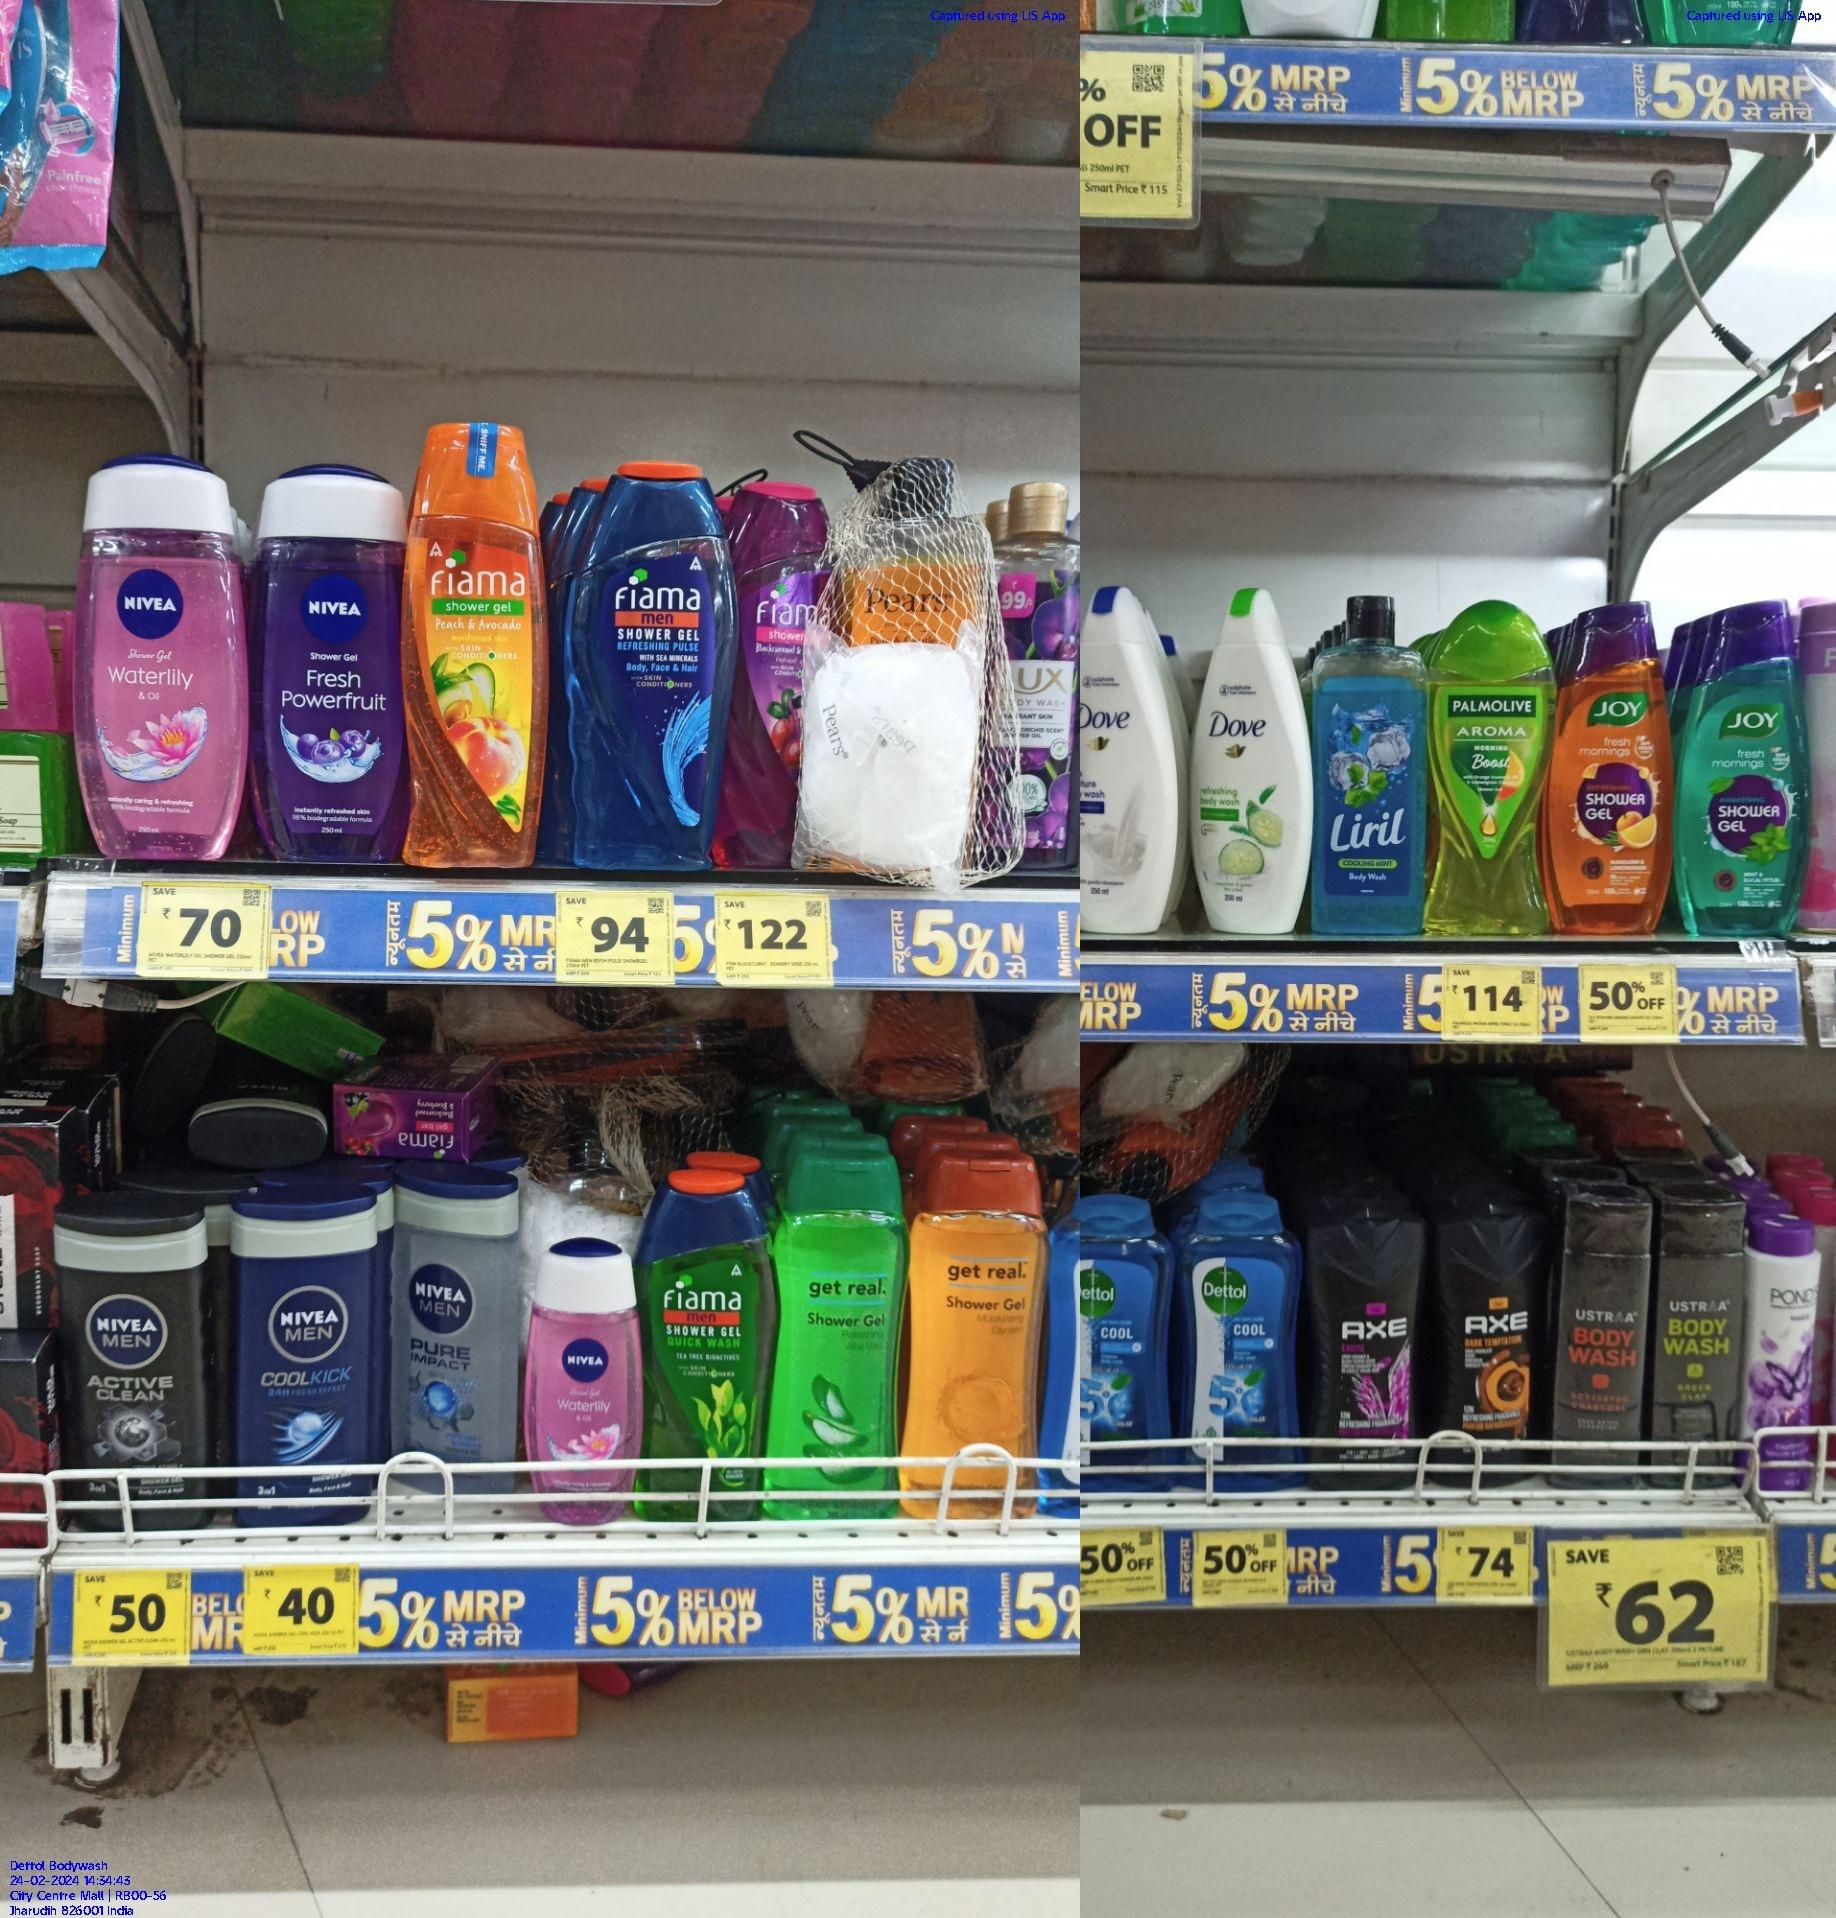Dettol_Bodywash_Cool: (1182, 1202, 1315, 1495), (1082, 1209, 1175, 1490)
Dove_Deep_Moisture_Body_Wash_250ML: (1079, 575, 1180, 928)
Dove_Refreshing_Body_Wash_250ML: (1195, 572, 1315, 957)
Fiama_Shower_Gel_Peach_and_Avocado_250ML: (409, 387, 539, 863)
Get_Real_Shower_Gel_Moisturising_Glycerin_300ML: (909, 1151, 1038, 1519)
Joy_Shower_Gel_Mandarin_and_Lemongrass_250ML: (1547, 593, 1670, 938)
Joy_Shower_Gel_Mint_and_Eucalyptus_250ML: (1684, 599, 1807, 935)
Liril_Cooling_Mint_Body_Wash_250ML: (1327, 584, 1425, 923)
Nivea_Shower_Gel_Fresh_Powerfruit_250ML: (271, 468, 399, 858)
Nivea_Shower_Gel_Waterlily_and_Oil_250ML: (67, 462, 257, 865)
